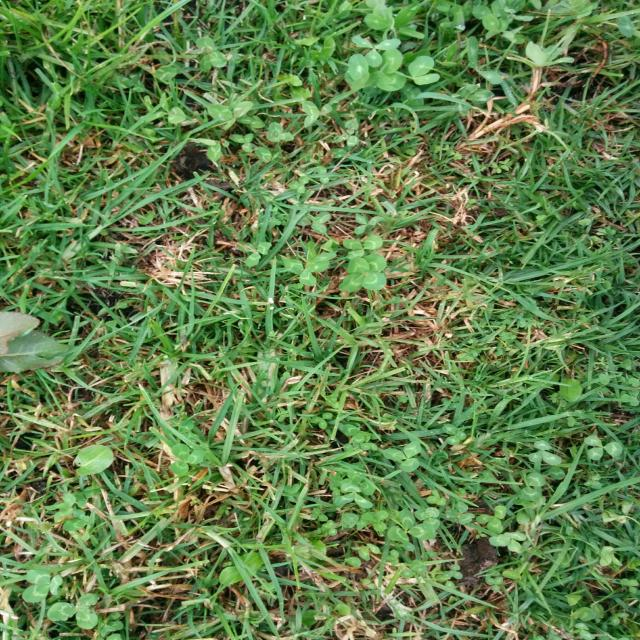Four Leaf Clover: (338, 253, 387, 292)
